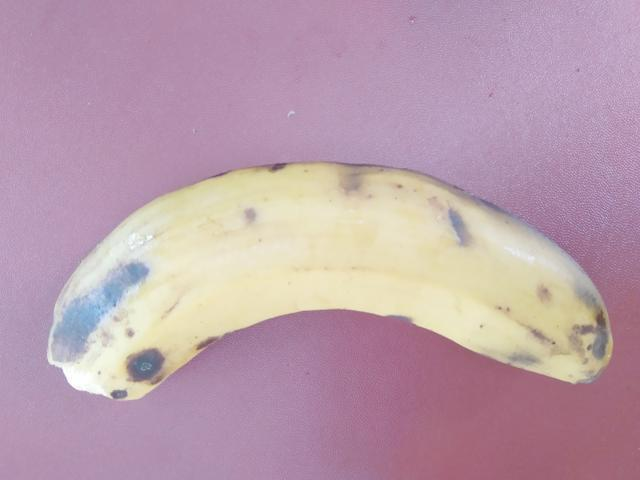ripe: (38, 142, 620, 479)
